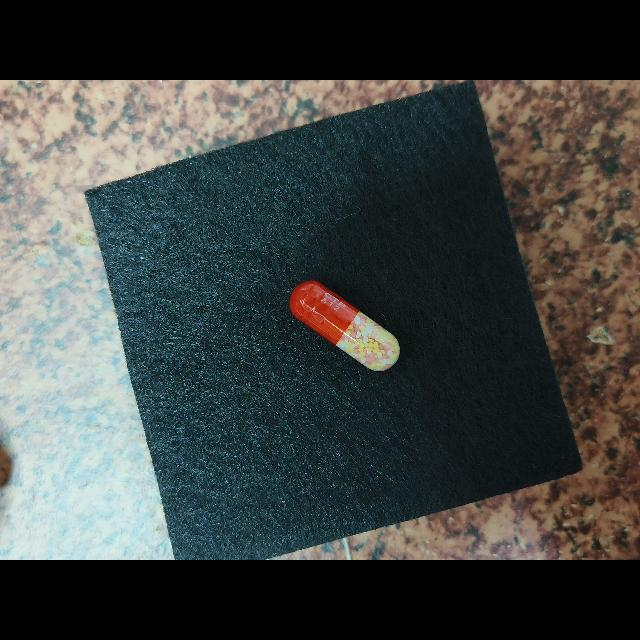Intact Capsule: (290, 281, 400, 371)
